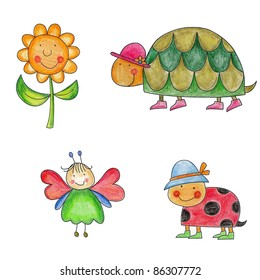flower: (8, 21, 82, 132)
